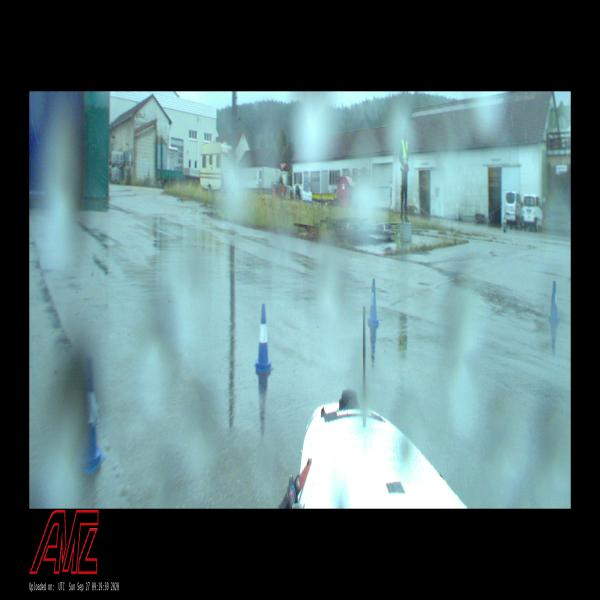blue_cone: (76, 357, 106, 475), (253, 304, 274, 374), (368, 279, 379, 324), (548, 281, 560, 320)
